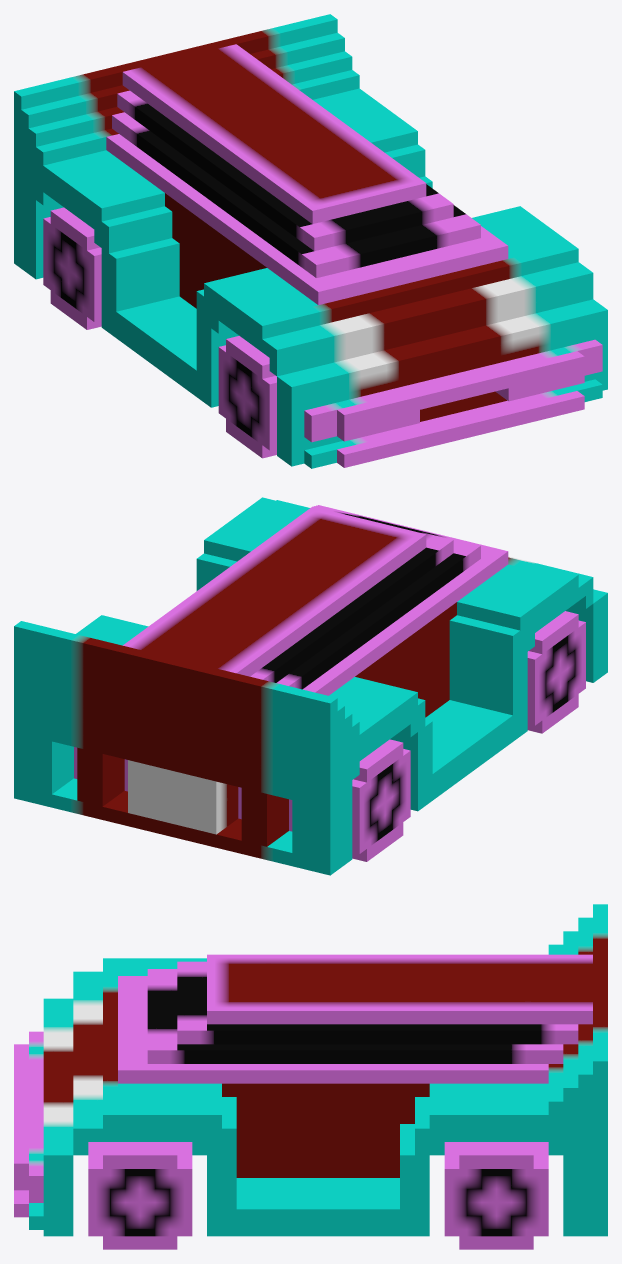
File: Car_29.fbx
3 renders of one model, top to bottom at view 1: azimuth 30°, elevation 25°; view 2: azimuth 150°, elevation 25°; view 3: azimuth 270°, elevation 25°, orthographic.
Parts seen in each view (by area): view 1: Car_29; view 2: Car_29; view 3: Car_29.
Boxes of the visible parts, <box> form: Car_29: <box>14,14,607,468</box>; Car_29: <box>14,497,607,875</box>; Car_29: <box>14,904,607,1249</box>.
Size of the model in its own units: 25 by 14 by 40.
1 material, 1 textured.
